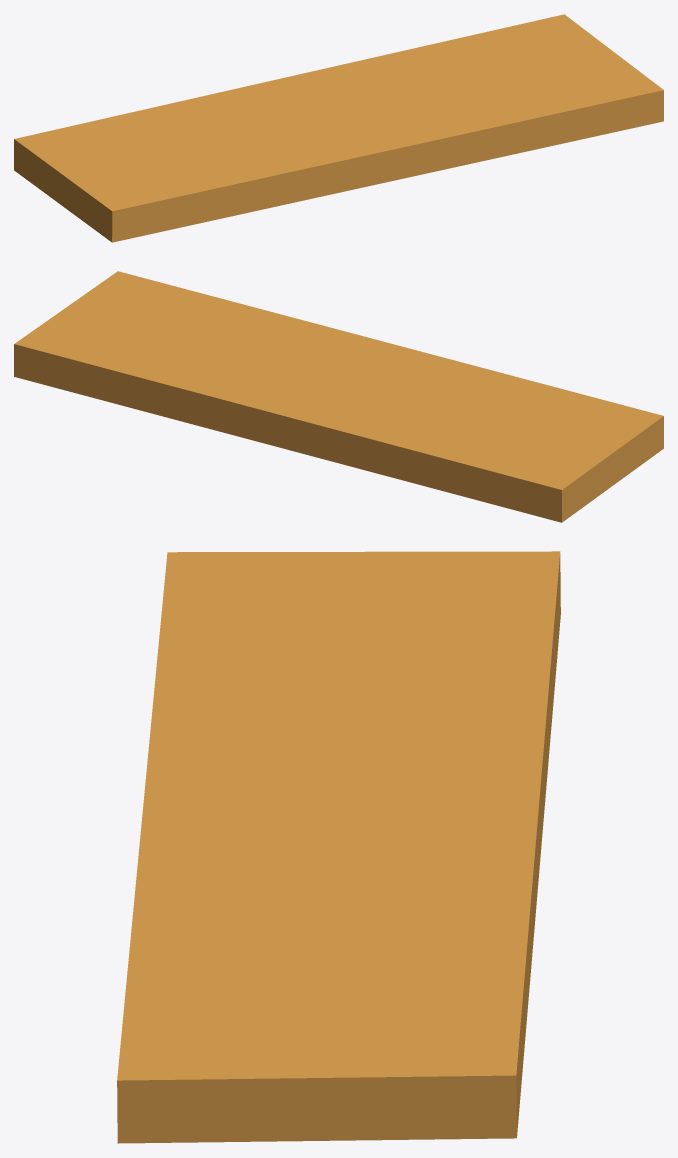
Rendered from Boat skeleton plank.fbx.
3 renders of one model, top to bottom at view 1: azimuth 30°, elevation 25°; view 2: azimuth 150°, elevation 25°; view 3: azimuth 270°, elevation 25°, orthographic. The views are drawn at different scales.
Visible parts, largest first — view 1: Cube.005; view 2: Cube.005; view 3: Cube.005.
Boxes of the visible parts, box(x1,y1,x2,y2) form: Cube.005: box(14, 14, 663, 242); Cube.005: box(14, 271, 663, 522); Cube.005: box(117, 551, 560, 1143).
Bounding box in the file's own units: 17.94 × 1.08 × 6.39.
